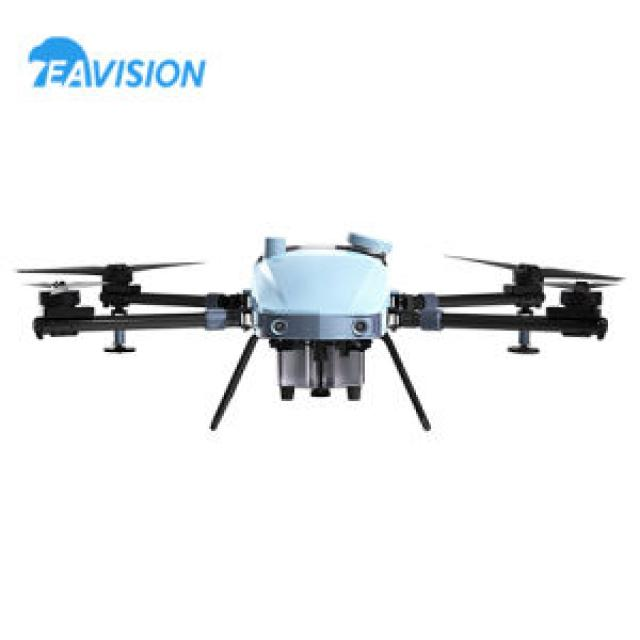drone: (0, 208, 640, 460)
